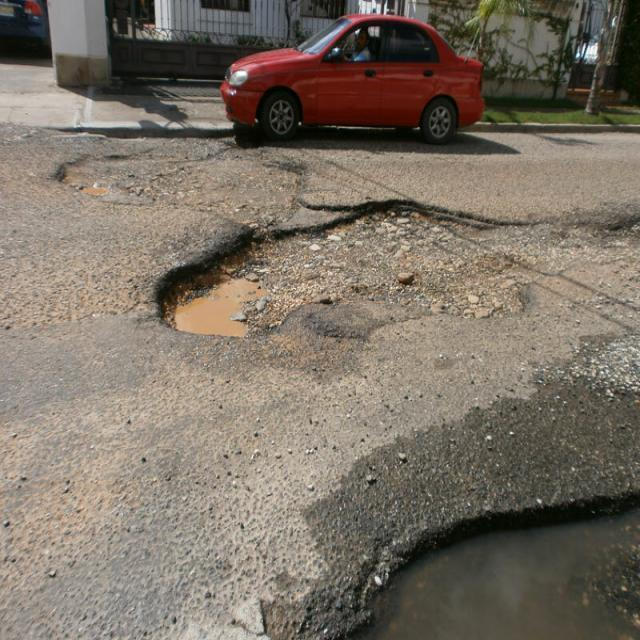Buraco: (47, 136, 640, 347), (321, 486, 640, 640)
